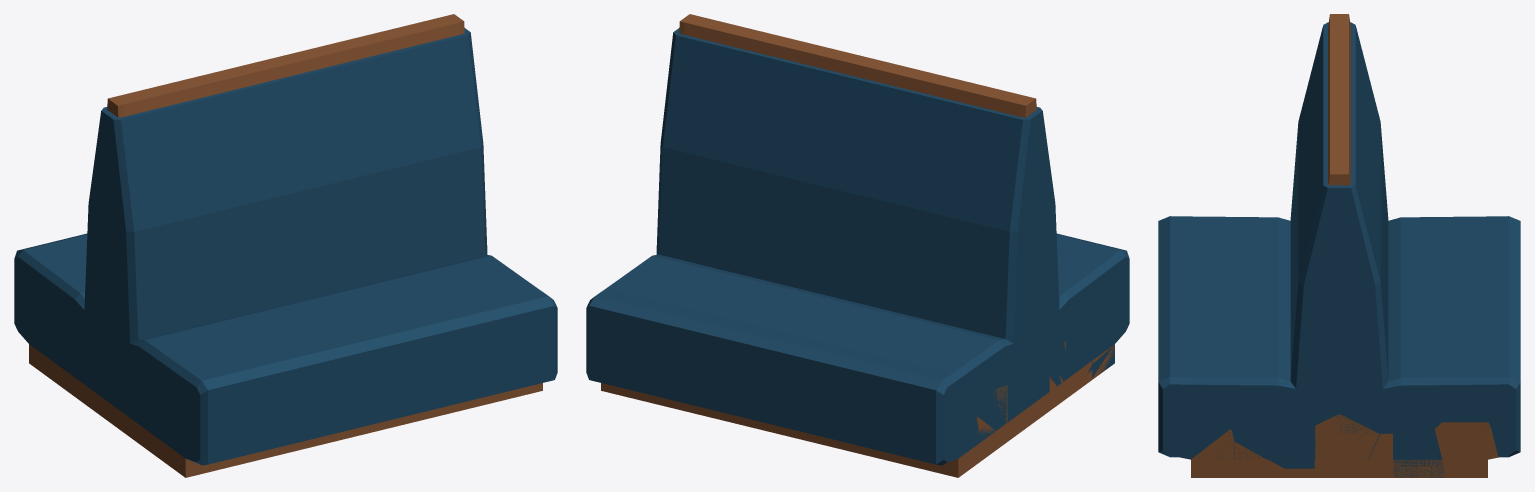
Rendered from shattered_boothseats.fbx.
3 renders of one model, left to right at view 1: azimuth 30°, elevation 25°; view 2: azimuth 150°, elevation 25°; view 3: azimuth 270°, elevation 25°, orthographic. The views are drawn at different scales.
Parts seen in each view (by area): view 1: Cube, Cube_cell.100, Cube_cell.021, Cube_cell.038, Cube_cell.047, Cube_cell.068, Cube_cell.003, Cube_cell.044, Cube_cell.087, Cube_cell.079, Cube_cell.045, Cube_cell.057 (+7 smaller); view 2: Cube, Cube_cell.078, Cube_cell.052, Cube_cell.014, Cube_cell.042, Cube_cell.075, Cube_cell.034, Cube_cell.092, Cube_cell.062, Cube_cell.046, Cube_cell.037, Cube_cell.077 (+10 smaller); view 3: Cube, Cube_cell.052, Cube_cell.044, Cube_cell.038, Cube_cell.069, Cube_cell.066, Cube_cell.048, Cube_cell.078, Cube_cell.062, Cube_cell.029, Cube_cell.073, Cube_cell.097 (+33 smaller).
Boxes of the visible parts, <box> form: Cube: <box>14,14,557,477</box>; Cube_cell.100: <box>223,174,396,288</box>; Cube_cell.021: <box>115,86,216,174</box>; Cube_cell.038: <box>229,276,432,347</box>; Cube_cell.047: <box>396,198,514,286</box>; Cube_cell.068: <box>201,364,308,425</box>; Cube_cell.003: <box>440,292,553,360</box>; Cube_cell.044: <box>428,272,542,317</box>; Cube_cell.087: <box>203,40,375,187</box>; Cube_cell.079: <box>165,334,299,377</box>; Cube_cell.045: <box>188,410,293,465</box>; Cube_cell.057: <box>488,303,557,355</box>; Cube: <box>586,14,1129,477</box>; Cube_cell.078: <box>676,301,873,406</box>; Cube_cell.052: <box>659,91,770,206</box>; Cube_cell.014: <box>767,40,939,184</box>; Cube_cell.042: <box>901,264,1011,375</box>; Cube_cell.075: <box>744,248,919,318</box>; Cube_cell.034: <box>901,159,1013,284</box>; Cube_cell.092: <box>712,276,914,329</box>; Cube_cell.062: <box>629,192,747,284</box>; Cube_cell.046: <box>850,407,943,465</box>; Cube_cell.037: <box>860,340,975,379</box>; Cube_cell.077: <box>597,362,675,400</box>; Cube: <box>1158,14,1520,477</box>; Cube_cell.052: <box>1322,207,1383,343</box>; Cube_cell.044: <box>1180,328,1234,428</box>; Cube_cell.038: <box>1190,256,1284,337</box>; Cube_cell.069: <box>1339,336,1417,433</box>; Cube_cell.066: <box>1442,335,1498,421</box>; Cube_cell.048: <box>1279,338,1339,425</box>; Cube_cell.078: <box>1461,256,1513,336</box>; Cube_cell.062: <box>1365,283,1450,428</box>; Cube_cell.029: <box>1232,423,1314,468</box>; Cube_cell.073: <box>1315,414,1379,468</box>; Cube_cell.097: <box>1434,422,1498,468</box>.
Size of the model in its own units: 159 by 146 by 172.
